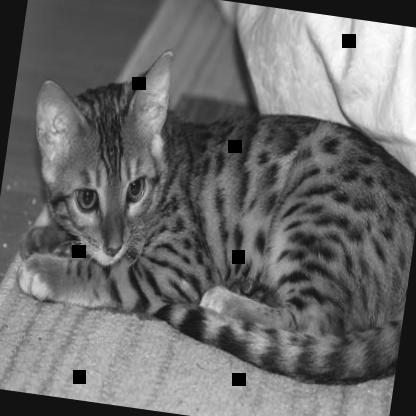cat: (1, 30, 415, 398)
